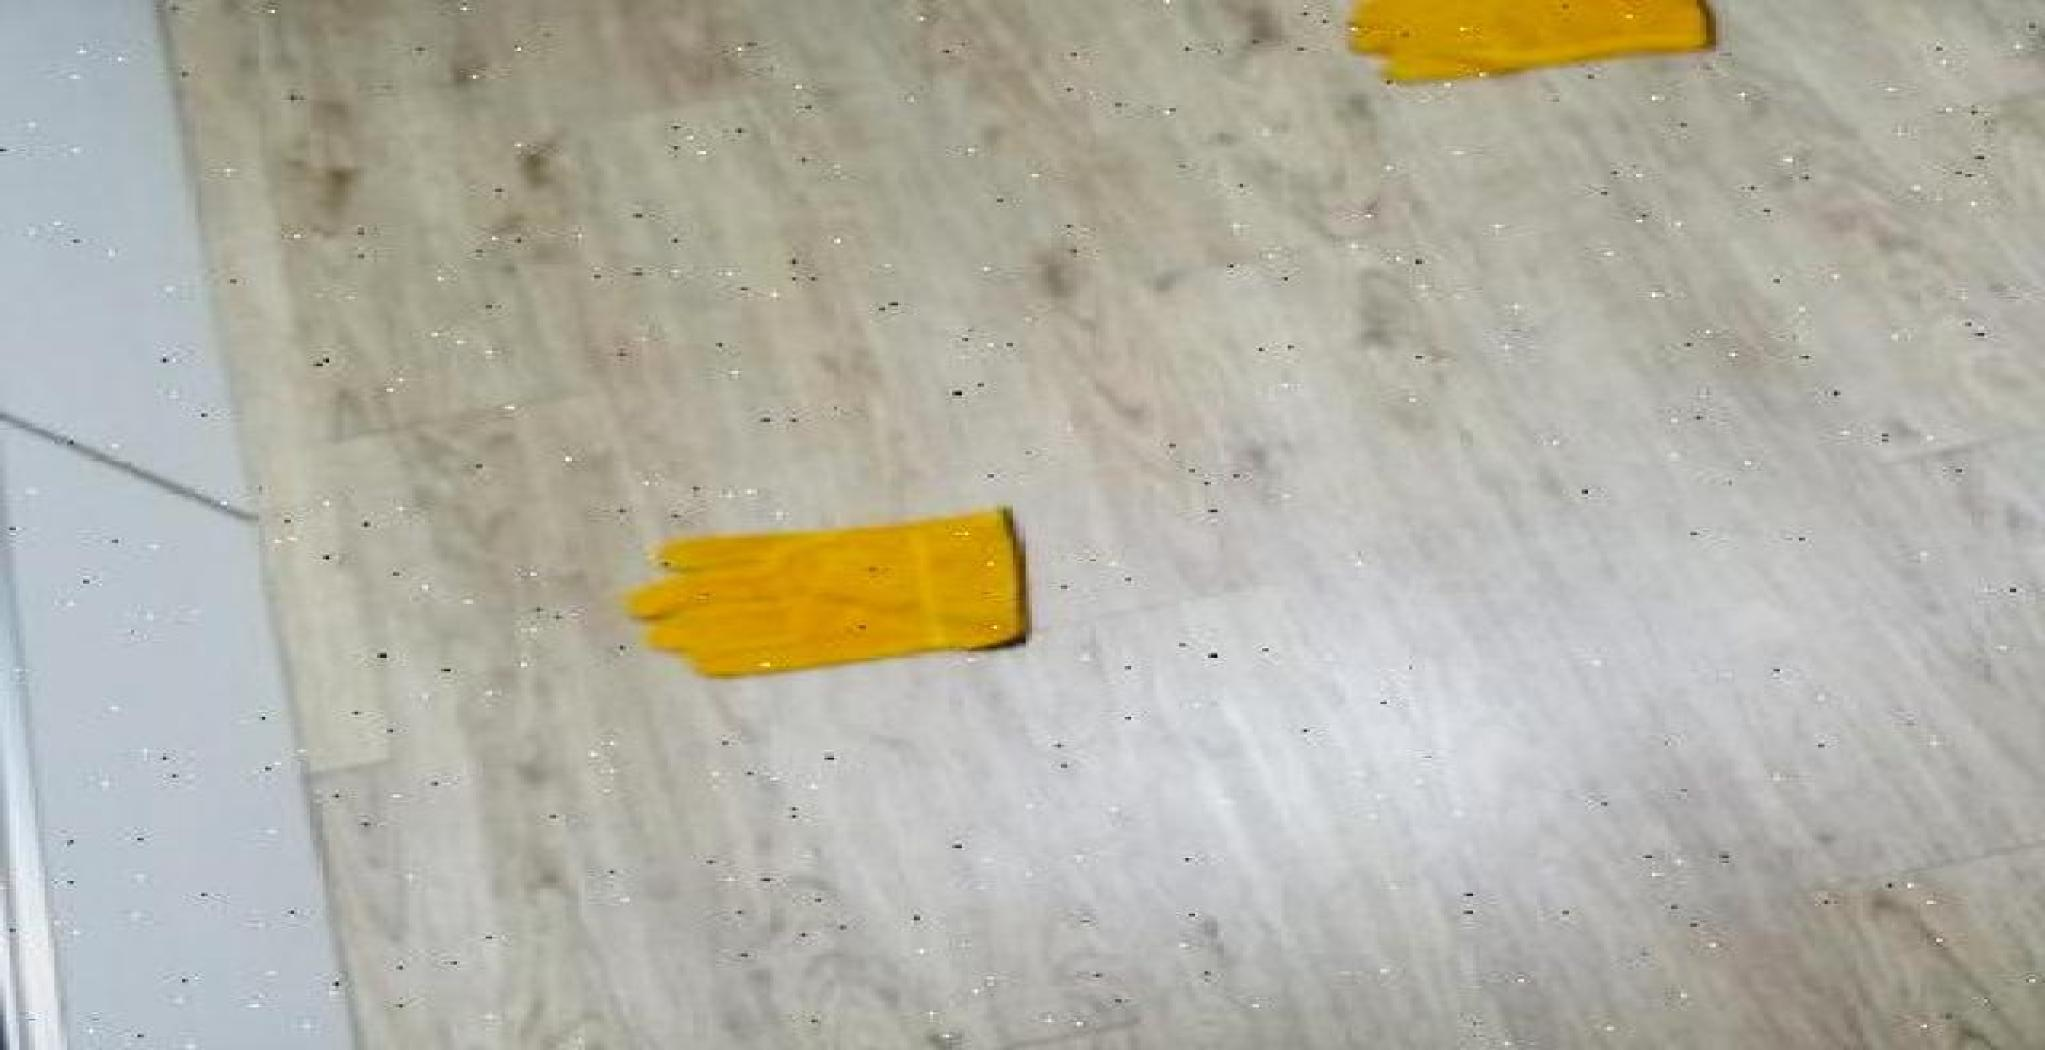gloved: (600, 530, 1110, 690)
